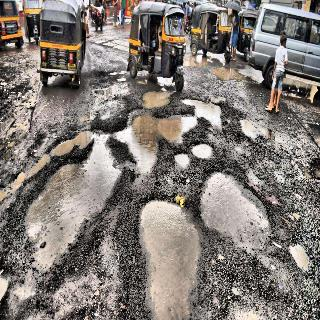crack: (102, 43, 119, 49), (90, 40, 101, 46)
pothole: (24, 132, 119, 273), (131, 196, 203, 318), (198, 166, 272, 249), (120, 108, 198, 176), (180, 95, 223, 127), (0, 170, 22, 205), (134, 88, 176, 106), (240, 118, 268, 143), (211, 66, 246, 83), (190, 142, 217, 162), (172, 152, 190, 170), (24, 88, 38, 110), (107, 70, 118, 78)
